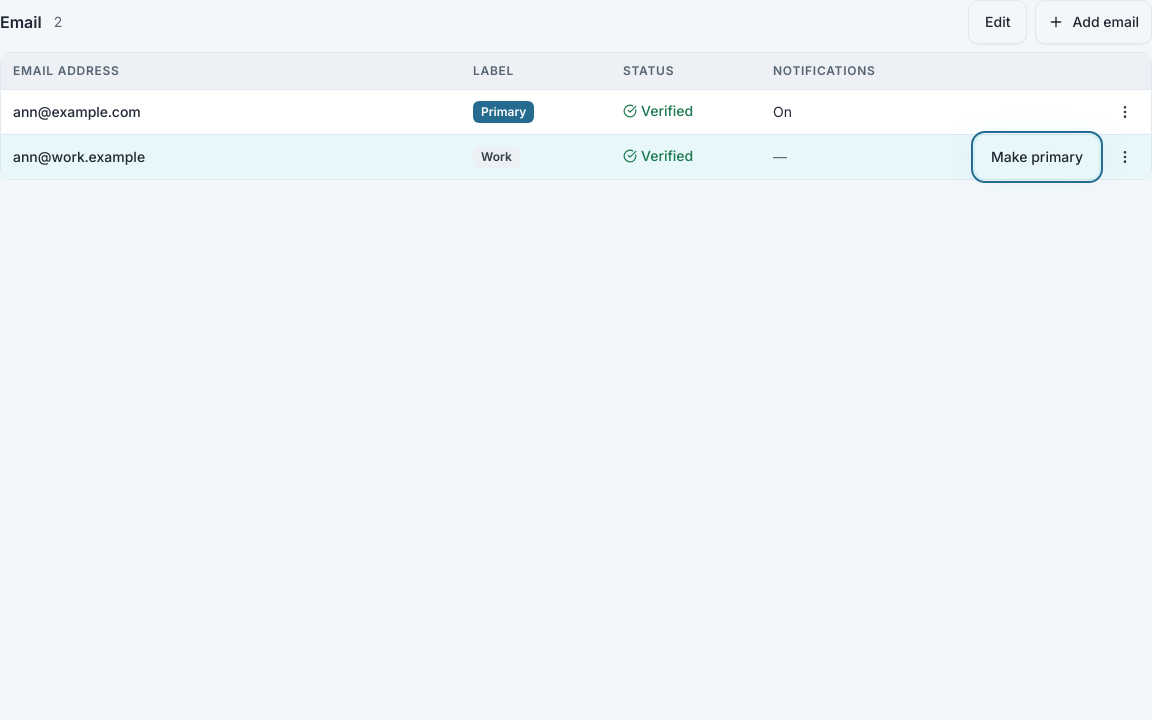
Test: EmailSection: Make primary confirm and send (Story 3.6) › Failure (an Email Primary rule) toasts () => _msw.HttpResponse.json({ message, code: status }, { status })
The width and height of the screenshot is (1152, 720).
Click the button "Make primary" at (1037, 156), box top-left (975, 134), bottom-right (1099, 178)
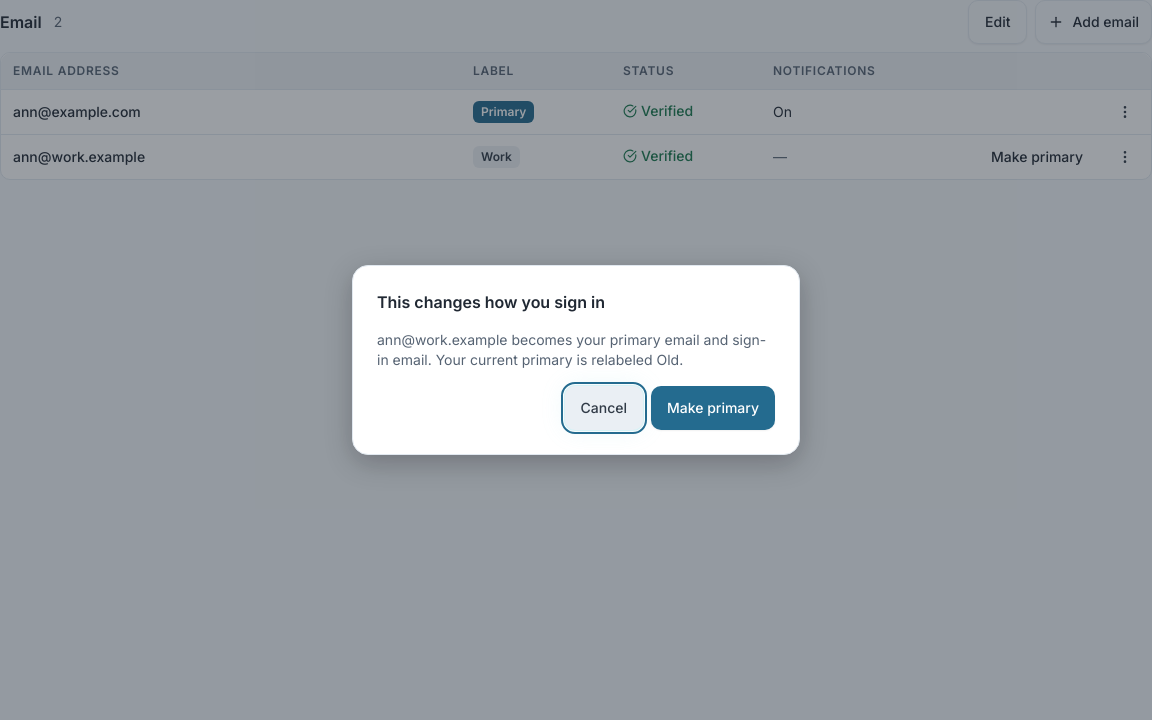
Expected: the dialog is shown, top-left (352, 265), bottom-right (800, 455)
Click the button "Make primary" at (713, 408), box top-left (651, 386), bottom-right (775, 430)
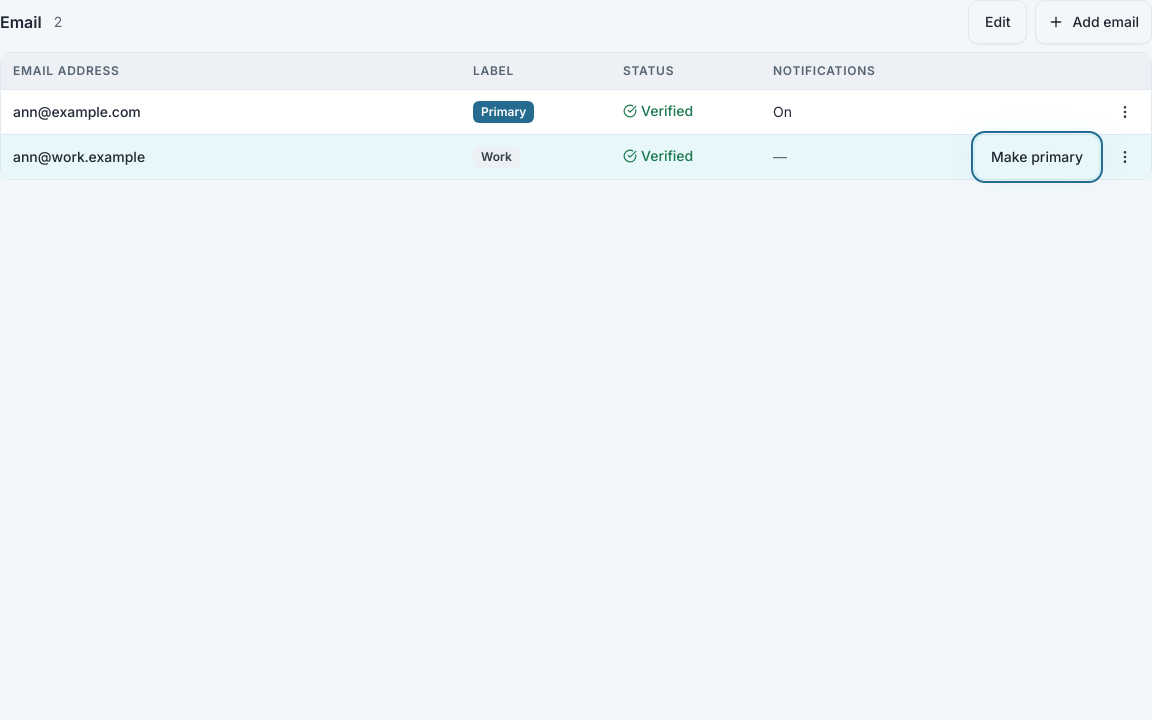
Expected: the dialog is gone
